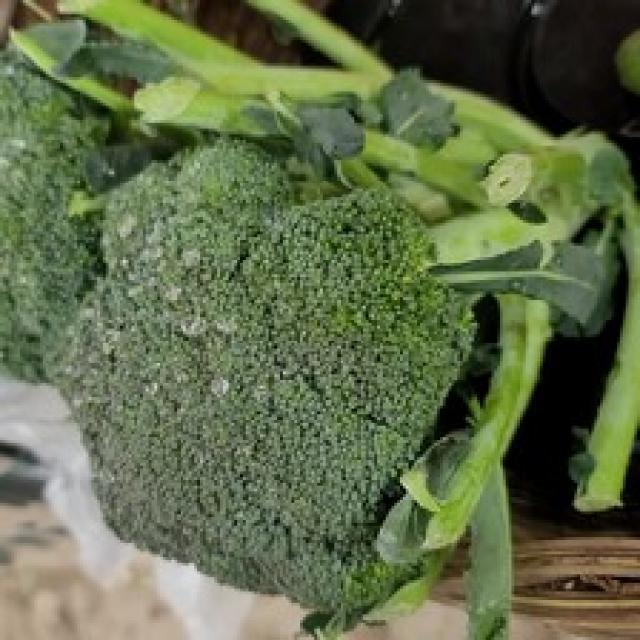Broccoli: (62, 139, 498, 616), (0, 51, 126, 381)
